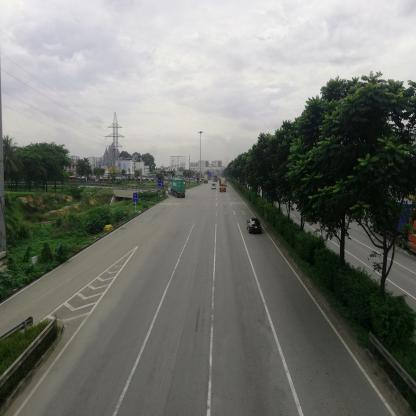car: (247, 218, 262, 236), (214, 184, 217, 191)
container: (168, 181, 187, 199), (221, 179, 227, 193)
